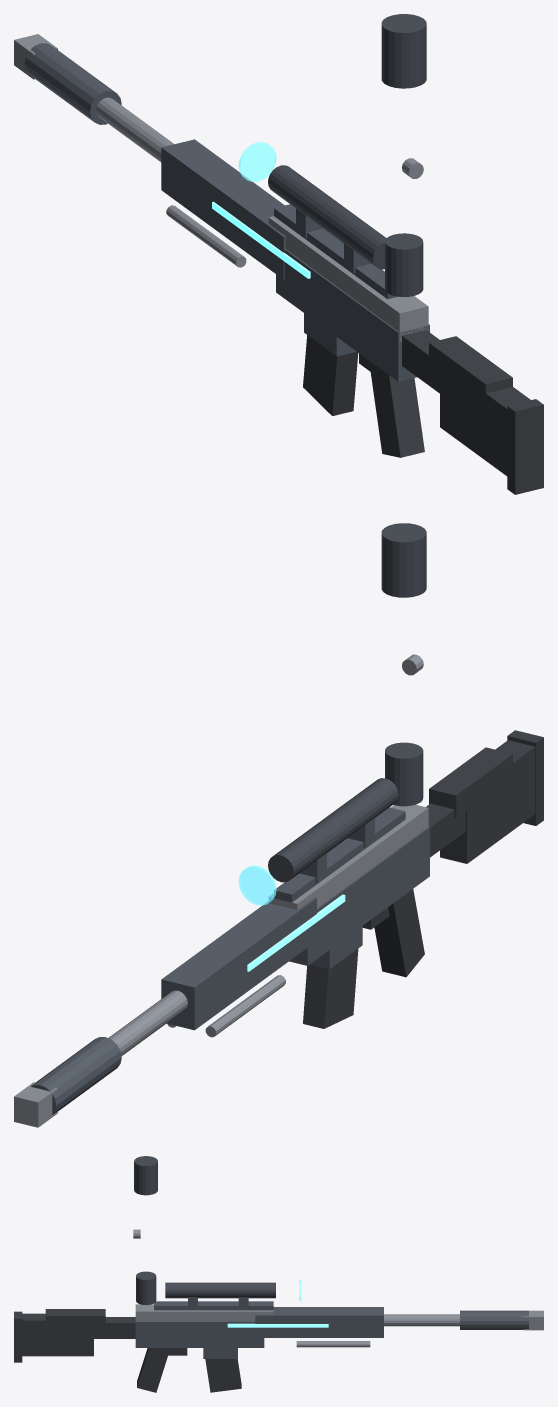
Rendered from SM_Weapon_Sniper.glb.
3 renders of one model, top to bottom at view 1: azimuth 30°, elevation 25°; view 2: azimuth 150°, elevation 25°; view 3: azimuth 270°, elevation 25°, orthographic. The views are drawn at different scales.
Parts seen in each view (by area): view 1: Handguard, ReceiverLower, StockBody, Scope, ReceiverUpper, Grip, Suppressor, StockPad, Scope_Objective, Magazine, StockCheek, Scope_Ocular (+8 smaller); view 2: Handguard, ReceiverLower, StockBody, Scope, ReceiverUpper, Scope_Objective, Magazine, Suppressor, StockCheek, Grip, TopRail, Scope_Ocular (+8 smaller); view 3: Handguard, ReceiverLower, StockBody, Scope, ReceiverUpper, Suppressor, StockCheek, Magazine, TopRail, Grip, Barrel, Scope_Objective (+7 smaller).
Part boxes in pixels (left/top/right/bottom): Handguard: left=161, top=139, right=285, bottom=279; ReceiverLower: left=276, top=249, right=429, bottom=381; StockBody: left=440, top=360, right=530, bottom=475; Scope: left=268, top=165, right=386, bottom=269; ReceiverUpper: left=268, top=216, right=428, bottom=341; Grip: left=369, top=361, right=424, bottom=457; Suppressor: left=24, top=43, right=121, bottom=124; StockPad: left=507, top=399, right=543, bottom=494; Scope_Objective: left=381, top=14, right=426, bottom=88; Magazine: left=303, top=335, right=358, bottom=415; StockCheek: left=429, top=336, right=512, bottom=405; Scope_Ocular: left=385, top=233, right=423, bottom=296; Handguard: left=161, top=897, right=316, bottom=1030; ReceiverLower: left=289, top=827, right=429, bottom=965; StockBody: left=440, top=740, right=535, bottom=863; Scope: left=268, top=778, right=398, bottom=882; ReceiverUpper: left=269, top=804, right=428, bottom=909; Scope_Objective: left=381, top=523, right=426, bottom=597; Magazine: left=303, top=949, right=358, bottom=1028; Suppressor: left=31, top=1037, right=121, bottom=1114; StockCheek: left=429, top=747, right=512, bottom=817; Grip: left=374, top=889, right=424, bottom=977; TopRail: left=274, top=807, right=405, bottom=902; Scope_Ocular: left=385, top=742, right=423, bottom=806; Handguard: left=255, top=1307, right=383, bottom=1337; ReceiverLower: left=135, top=1321, right=264, bottom=1347; StockBody: left=22, top=1313, right=93, bottom=1356; Scope: left=165, top=1282, right=275, bottom=1298; ReceiverUpper: left=135, top=1304, right=273, bottom=1321; Suppressor: left=460, top=1310, right=528, bottom=1329; StockCheek: left=45, top=1309, right=105, bottom=1327; Magazine: left=205, top=1359, right=241, bottom=1392; TopRail: left=154, top=1301, right=273, bottom=1310; Grip: left=137, top=1348, right=170, bottom=1392; Barrel: left=384, top=1314, right=459, bottom=1326; Scope_Objective: left=134, top=1156, right=157, bottom=1195.
Size of the model in its own units: 0.0653 by 0.5488 by 1.15.
